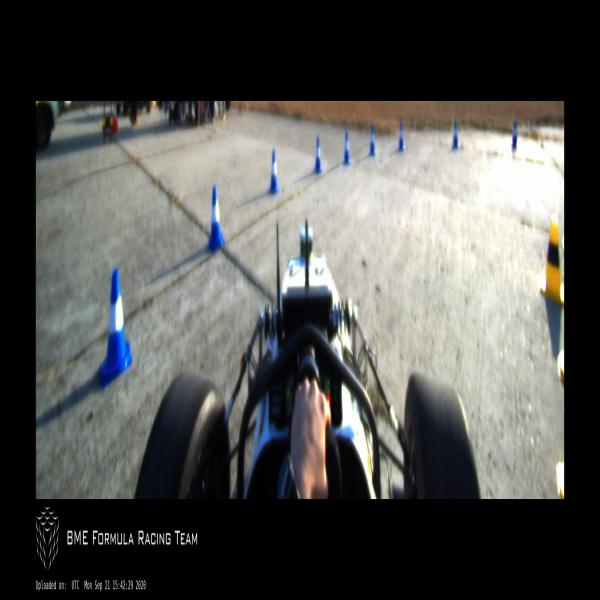blue_cone: (99, 268, 132, 390), (207, 186, 224, 254), (268, 149, 280, 194), (313, 137, 322, 175), (342, 131, 351, 166), (451, 120, 460, 150), (368, 126, 376, 157), (398, 121, 406, 152), (510, 120, 518, 150)
yellow_cone: (539, 215, 564, 307)
